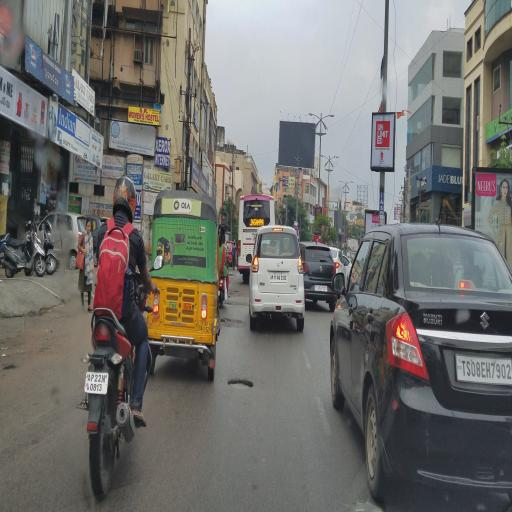street_light_0: (302, 105, 320, 124), (318, 107, 336, 125), (328, 149, 342, 171), (316, 148, 330, 168), (344, 174, 355, 194), (336, 172, 347, 192)
